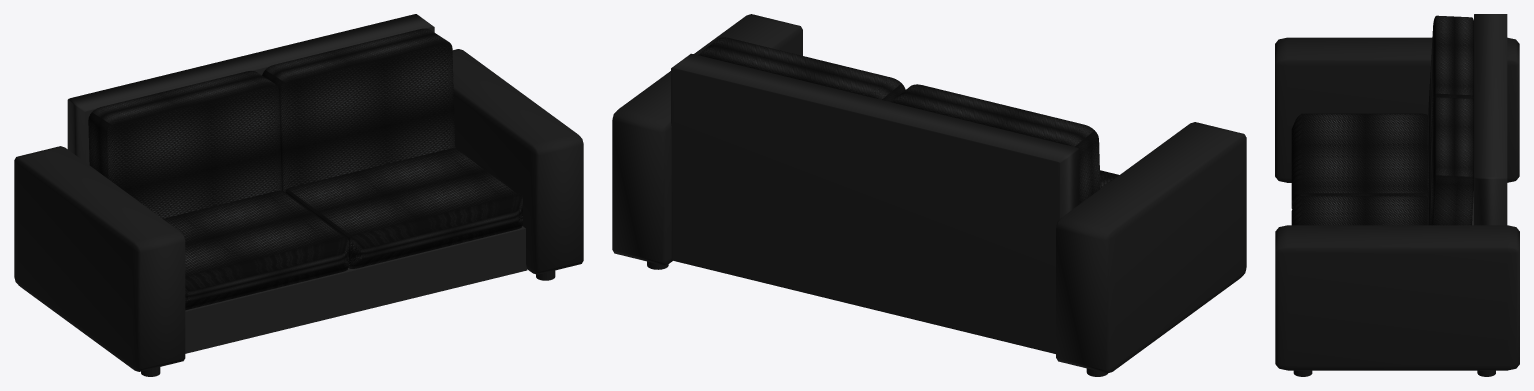
File: SmallSofa.glb
3 renders of one model, left to right at view 1: azimuth 30°, elevation 25°; view 2: azimuth 150°, elevation 25°; view 3: azimuth 270°, elevation 25°, orthographic. The views are drawn at different scales.
Visible parts, largest first — view 1: Cube.002, Cube.007, Cube.005, Cube.003, Cube.001, Cube.006, Cube.011, Cube; view 2: Cube, Cube.002, Cube.001, Cube.005, Cube.007; view 3: Cube.001, Cube.002, Cube.011, Cube, Cube.007, Cube.003, Cube.005.
Boxes of the visible parts, x1,y1,x2,y2 form: Cube.002: [14, 146, 185, 371]; Cube.007: [262, 28, 455, 192]; Cube.005: [88, 71, 281, 218]; Cube.003: [285, 148, 522, 268]; Cube.001: [452, 49, 583, 274]; Cube.006: [185, 226, 527, 353]; Cube.011: [163, 190, 348, 310]; Cube: [67, 14, 434, 164]; Cube: [671, 53, 1079, 353]; Cube.002: [1056, 122, 1246, 373]; Cube.001: [612, 14, 802, 265]; Cube.005: [891, 84, 1100, 203]; Cube.007: [698, 37, 905, 101]; Cube.001: [1275, 225, 1519, 370]; Cube.002: [1275, 37, 1519, 182]; Cube.011: [1291, 113, 1428, 209]; Cube: [1474, 14, 1507, 225]; Cube.007: [1427, 97, 1473, 225]; Cube.003: [1291, 196, 1427, 225]; Cube.005: [1427, 15, 1473, 191].
Bounding box in the file's own units: 2 × 0.8294 × 0.9815.
Materials: 4 (1 with a texture image).
